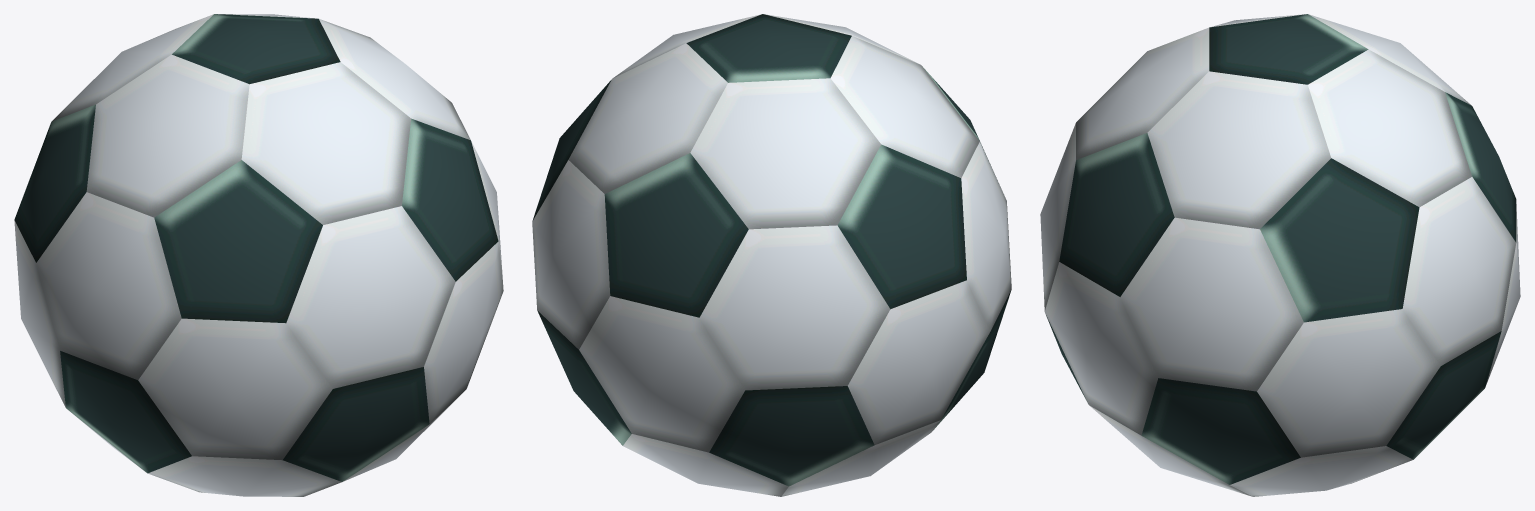
File: ball.obj
The picture shows the model from 3 angles, left to right: view 1: azimuth 30°, elevation 25°; view 2: azimuth 150°, elevation 25°; view 3: azimuth 270°, elevation 25°; orthographic projection. The views are drawn at different scales.
Visible parts, largest first — view 1: polygon1_Mat_Black, polygon0_Mat_Black; view 2: polygon1_Mat_Black, polygon0_Mat_Black; view 3: polygon1_Mat_Black, polygon0_Mat_Black.
Part boxes in pixels (box(x1,y1,x2,y2)): polygon1_Mat_Black: box(14, 14, 503, 496); polygon0_Mat_Black: box(14, 14, 498, 481); polygon1_Mat_Black: box(532, 14, 1011, 496); polygon0_Mat_Black: box(532, 14, 1011, 486); polygon1_Mat_Black: box(1040, 14, 1520, 496); polygon0_Mat_Black: box(1046, 14, 1516, 484).
Size of the model in its own units: 0.3323 by 0.3371 by 0.3319.
1 material, 1 textured.
